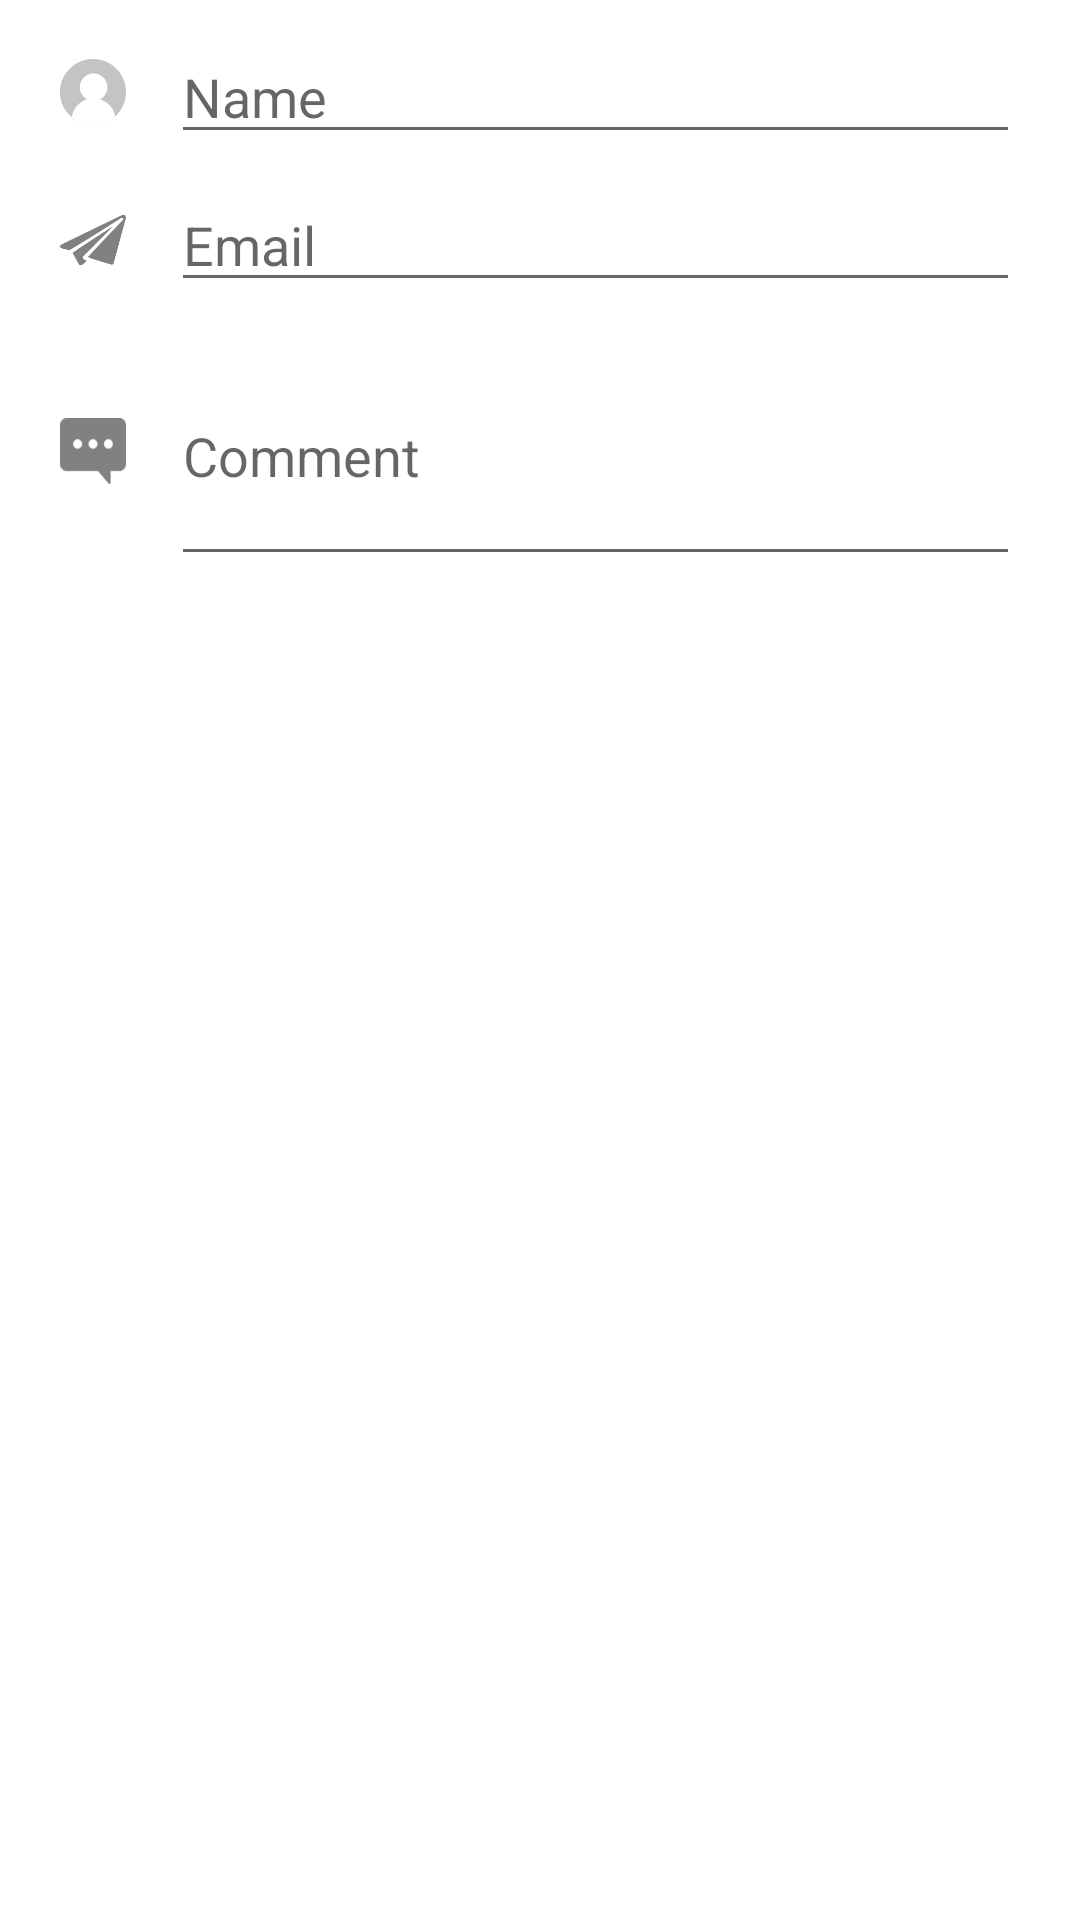

Icon bounding boxes for this 1080 × 1920 phone screenshot, format (x1, y1, x2, y2):
user: (60, 59, 126, 117)
